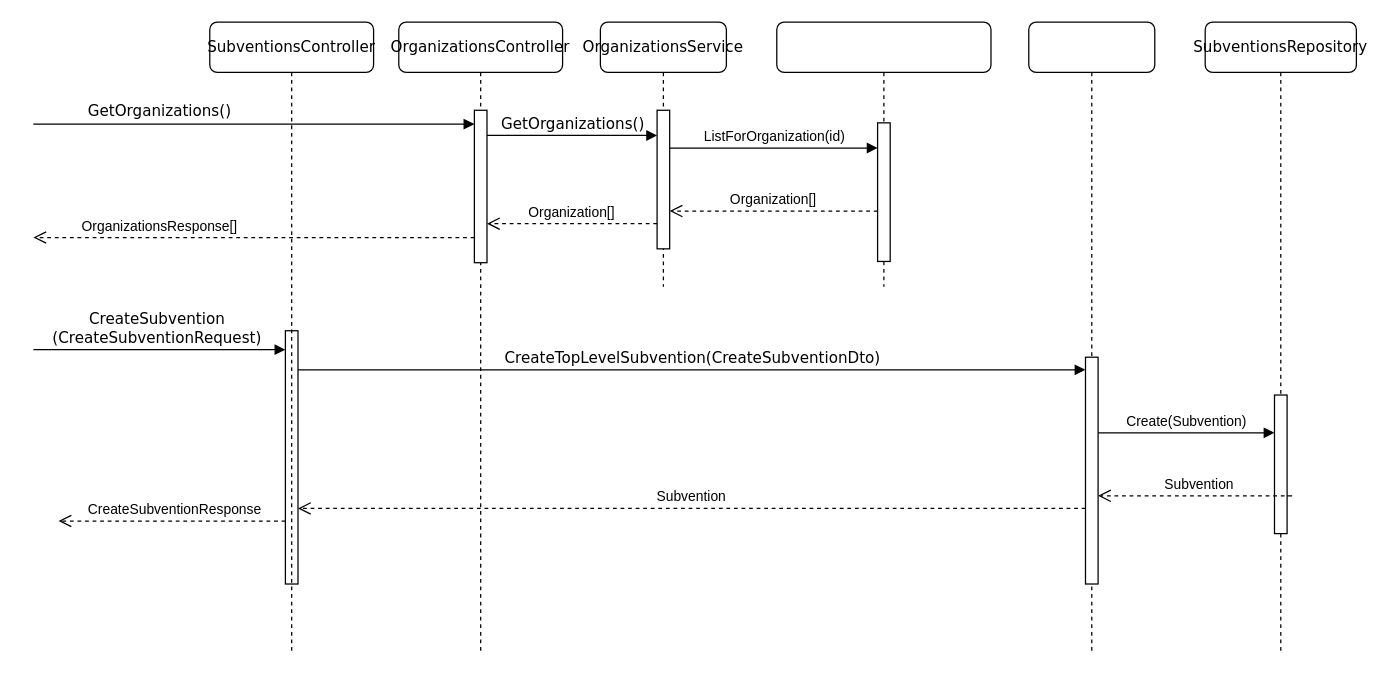
Some shapes in this 1390 by 674 pixel diagram are drawn without their labels. Each missing label, with the centre of its shape:
"OrganizationsRepository" belongs at pixel 883 154.
"SubventionsService" belongs at pixel 1091 336.
